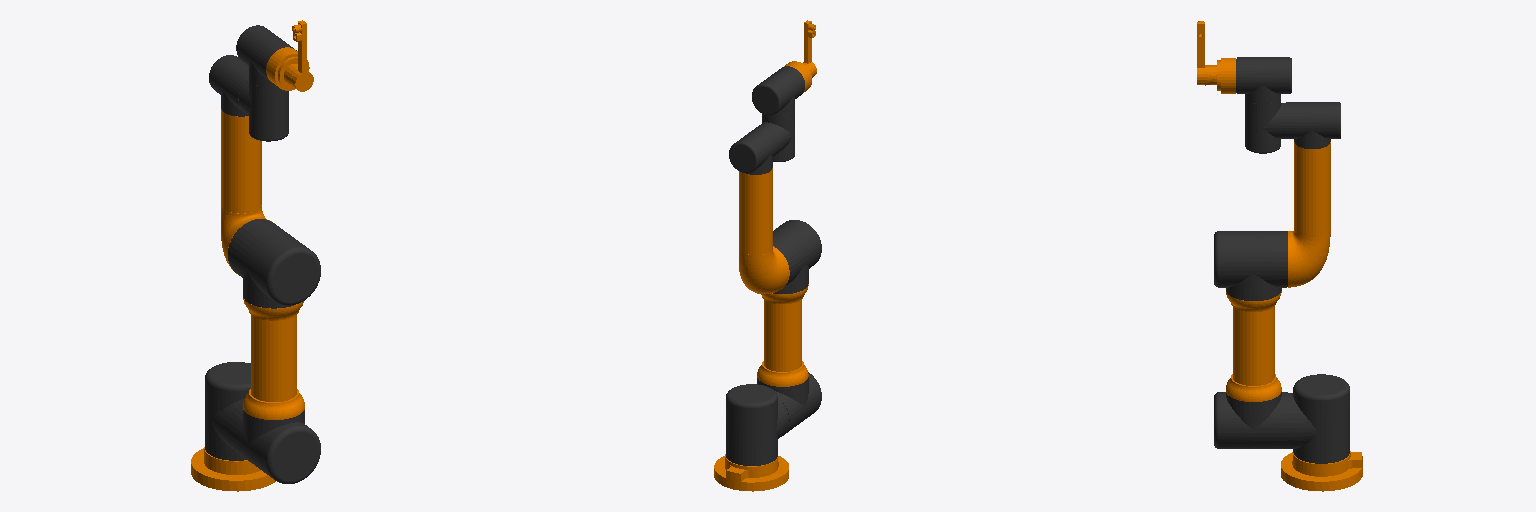
The robot description file, URDF, robot "aobo_i7":
 <robot name="aobo_i7">
    <link name="link_base">
        <visual>
		  <origin xyz="0. 0. 0." rpy="0. 0. 0." />
		  <geometry>
			<mesh filename="Geometry/i7-(1)-base.obj" scale="0.001 0.001 0.001" />
		  </geometry>
		  <material
			name="robot_orange">
			<color rgba="0.9137255 0.5137254 0. 1" />
		  </material>
		</visual>
		<collision>
          <origin xyz="0. 0. 0." rpy="0. 0. 0." />
          <geometry>
            <mesh filename="Geometry/i7-(1)-base_vhacd.obj" scale="0.001 0.001 0.001" />
          </geometry>
        </collision>
    </link>

	<link name="link_robot_joint1">
		<visual>
		  <origin xyz="0. 0. -.122" rpy="0. 0. 0" />
		  <geometry>
			<mesh filename="Geometry/i7-(2)-ID1.obj" scale="0.001 0.001 0.001" />
		  </geometry>
		  <material
			name="robot_black">
			<color rgba="0.2509804 0.2509804 0.2509804 1" />
		  </material>
		</visual>
		<collision>
          <origin xyz="0. 0. -.122" rpy="0. 0. 0" />
          <geometry>
            <mesh filename="Geometry/i7-(2)-ID1_vhacd.obj" scale="0.001 0.001 0.001" />
          </geometry>
        </collision>
    </link>

	<joint name="robot_j1" type="revolute">
        <axis xyz="0 0 1"/>
        <parent link="link_base"/>
        <child link="link_robot_joint1"/>
        <origin rpy="0. 0. 0" xyz="0. 0. 0.122"/>
        <limit lower="-3.04" upper="3.04" effort="0" velocity="0" />
    </joint>

	<link name="link_robot_joint2">
		<visual>
		  <origin xyz="0. 0.1215 -.122" rpy="0. 0. 0" />
		  <geometry>
			<mesh filename="Geometry/i7-(3)-ID2.obj" scale="0.001 0.001 0.001" />
		  </geometry>
		  <material
			name="robot_black">
			<color rgba="0.2509804 0.2509804 0.2509804 1" />
		  </material>
		</visual>
		<collision>
          <origin xyz="0. 0.1215 -.122" rpy="0. 0. 0" />
          <geometry>
            <mesh filename="Geometry/i7-(3)-ID2_vhacd.obj" scale="0.001 0.001 0.001" />
          </geometry>
        </collision>

		<visual>
		  <origin xyz="0. 0.1215 -0.122" rpy="0. 0. 0" />
		  <geometry>
			<mesh filename="Geometry/i7-(8)-dabiguan.obj" scale="0.001 0.001 0.001" />
		  </geometry>
		  <material
			name="robot_orange">
		  </material>
		</visual>
		<collision>
          <origin xyz="0. 0.1215 -0.122" rpy="0. 0. 0" />
          <geometry>
            <mesh filename="Geometry/i7-(8)-dabiguan_vhacd.obj" scale="0.001 0.001 0.001" />
          </geometry>
        </collision>

		<visual>
		  <origin xyz="0. 0.1215 -0.122" rpy="0. 0. 0" />
		  <geometry>
			<mesh filename="Geometry/i7-(4)-ID3.obj" scale="0.001 0.001 0.001" />
		  </geometry>
		  <material name="robot_black"/>
		</visual>
		<collision>
          <origin xyz="0. 0.1215 -0.122" rpy="0. 0. 0" />
          <geometry>
            <mesh filename="Geometry/i7-(4)-ID3_vhacd.obj" scale="0.001 0.001 0.001" />
          </geometry>
        </collision>
    </link>

	<joint name="robot_j2" type="revolute">
        <axis xyz="0 1 0"/>
        <parent link="link_robot_joint1"/>
        <child link="link_robot_joint2"/>
        <origin rpy="0. 0. 0." xyz="0. -0.1215 0."/>
        <limit lower="-3.04" upper="3.04" effort="0" velocity="0" />
    </joint>

	<link name="link_robot_joint3">
		<visual>
		  <origin xyz="0. 0.1215 -0.490" rpy="0. 0. 0" />
		  <geometry>
			<mesh filename="Geometry/i7-(10)-wantou.obj" scale="0.001 0.001 0.001" />
		  </geometry>
		  <material
			name="robot_orange">
		  </material>
		</visual>
		<collision>
          <origin xyz="0. 0.1215 -0.490" rpy="0. 0. 0" />
          <geometry>
            <mesh filename="Geometry/i7-(10)-wantou_vhacd.obj" scale="0.001 0.001 0.001" />
          </geometry>
        </collision>

		<visual>
		  <origin xyz="0. 0.1215 -0.490" rpy="0. 0. 0" />
		  <geometry>
			<mesh filename="Geometry/i7-(9)-xiaobiguan.obj" scale="0.001 0.001 0.001" />
		  </geometry>
		  <material
			name="robot_orange">
		  </material>
		</visual>
		<collision>
          <origin xyz="0. 0.1215 -0.490" rpy="0. 0. 0" />
          <geometry>
            <mesh filename="Geometry/i7-(9)-xiaobiguan_vhacd.obj" scale="0.001 0.001 0.001" />
          </geometry>
        </collision>

		<visual>
		  <origin xyz="0. 0.1215 -0.490" rpy="0. 0. 0" />
		  <geometry>
			<mesh filename="Geometry/i7-(5)-ID4.obj" scale="0.001 0.001 0.001" />
		  </geometry>
		  <material
			name="robot_black">
		  </material>
		</visual>
		<collision>
          <origin xyz="0. 0.1215 -0.490" rpy="0. 0. 0" />
          <geometry>
            <mesh filename="Geometry/i7-(5)-ID4_vhacd.obj" scale="0.001 0.001 0.001" />
          </geometry>
        </collision>
    </link>

	<joint name="robot_j3" type="revolute">
        <axis xyz="0 1 0"/>
        <parent link="link_robot_joint2"/>
        <child link="link_robot_joint3"/>
        <origin rpy="0. 0. 0." xyz="0. 0. 0.368"/>
        <limit lower="-3.04" upper="3.04" effort="0" velocity="0" />
    </joint>


	<link name="link_robot_joint4">
		<visual>
		  <origin xyz="0. 0.1215 -0.806" rpy="0. 0. 0" />
		  <geometry>
			<mesh filename="Geometry/i7-(6)-ID5.obj" scale="0.001 0.001 0.001" />
		  </geometry>
		  <material
			name="robot_black">
		  </material>
		</visual>
		<collision>
          <origin xyz="0. 0.1215 -0.806" rpy="0. 0. 0" />
          <geometry>
            <mesh filename="Geometry/i7-(6)-ID5_vhacd.obj" scale="0.001 0.001 0.001" />
          </geometry>
        </collision>
    </link>

	<joint name="robot_j4" type="revolute">
        <axis xyz="0 1 0"/>
        <parent link="link_robot_joint3"/>
        <child link="link_robot_joint4"/>
        <origin rpy="0 0 0" xyz="0. 0. 0.316"/>
        <limit lower="-3.04" upper="3.04" effort="0" velocity="0" />
    </joint>

	<link name="link_robot_joint5">
		<visual>
		  <origin xyz="0. 0.1215 -0.9085" rpy="0. 0. 0" />
		  <geometry>
			<mesh filename="Geometry/i7-(7)-ID6.obj" scale="0.001 0.001 0.001" />
		  </geometry>
		  <material
			name="robot_black">
		  </material>
		</visual>
		<collision>
          <origin xyz="0. 0.1215 -0.9085" rpy="0. 0. 0" />
          <geometry>
            <mesh filename="Geometry/i7-(7)-ID6_vhacd.obj" scale="0.001 0.001 0.001" />
          </geometry>
        </collision>
    </link>

	<joint name="robot_j5" type="revolute">
        <axis xyz="0 0 1"/>
        <parent link="link_robot_joint4"/>
        <child link="link_robot_joint5"/>
        <origin rpy="0 0 0" xyz="0. 0. 0.1025"/>
        <limit lower="-3.04" upper="3.04" effort="0" velocity="0" />
    </joint>

	<link name="link_robot_joint6">
		<visual>
		  <origin xyz="0. 0.2155 -0.9085" rpy="0. 0. 0" />
		  <geometry>
			<mesh filename="Geometry/i7-(11)-endeffect.obj" scale="0.001 0.001 0.001" />
		  </geometry>
		  <material
			name="robot_orange">
		  </material>
		</visual>
		<collision>
          <origin xyz="0. 0.2155 -0.9085" rpy="0. 0. 0" />
          <geometry>
            <mesh filename="Geometry/i7-(11)-endeffect_vhacd.obj" scale="0.001 0.001 0.001" />
          </geometry>
        </collision>
    </link>

	<joint name="robot_j6" type="revolute">
        <axis xyz="0 1 0"/>
        <parent link="link_robot_joint5"/>
        <child link="link_robot_joint6"/>
        <origin rpy="0 0 0" xyz="0. -0.094 0."/>
        <limit lower="-3.04" upper="3.04" effort="0" velocity="0" />
    </joint>

	 <link name="link_robot_end">
		<visual>
		  <origin xyz="0 0 0" rpy="1.57 0 -1.57" />
		  <geometry>
			<mesh filename="Geometry/endeffect_tool.obj" scale="0.001 0.001 0.001" />
		  </geometry>
		  <material
			name="robot_orange">
		  </material>
		</visual>
		<collision>
          <origin xyz="0 0 0" rpy="1.57 0 -1.57" />
          <geometry>
            <mesh filename="Geometry/endeffect_tool.obj" scale="0.001 0.001 0.001" />
          </geometry>
        </collision>
    </link>

	<joint name="robot_end" type="fixed">
		<axis xyz="0 1 0"/>
        <parent link="link_robot_joint6"/>
        <child link="link_robot_end"/>
        <origin rpy="0 0 0" xyz="-0.02 -0.034 0.109"/>
    </joint>

</robot>

--- What the picture shows (computed from the rendered views, not written in the file) ---
3 views of the same robot in one strip: view 1: azimuth 30°, elevation 25°; view 2: azimuth 150°, elevation 25°; view 3: azimuth 270°, elevation 25° (orthographic).
Model aobo_i7 with 8 links and 7 joints (6 revolute, 1 fixed), rooted at link_base, posed all joints at 0.
Visible links, largest first — view 1: link_robot_joint2, link_robot_joint3, link_robot_joint1, link_robot_joint4, link_base, link_robot_joint5, link_robot_end, link_robot_joint6; view 2: link_robot_joint2, link_robot_joint3, link_robot_joint1, link_base, link_robot_joint5, link_robot_joint4; view 3: link_robot_joint2, link_robot_joint3, link_robot_joint1, link_robot_joint5, link_base, link_robot_joint4, link_robot_end, link_robot_joint6.
Link boxes in pixels (<box>): link_robot_joint2: <box>228,219,320,483</box>; link_robot_joint3: <box>209,55,274,273</box>; link_robot_joint1: <box>205,362,250,460</box>; link_robot_joint4: <box>239,81,288,141</box>; link_base: <box>191,447,275,491</box>; link_robot_joint5: <box>236,25,296,86</box>; link_robot_end: <box>284,20,313,91</box>; link_robot_joint6: <box>266,47,309,90</box>; link_robot_joint2: <box>757,220,821,435</box>; link_robot_joint3: <box>729,124,789,293</box>; link_robot_joint1: <box>726,384,788,465</box>; link_base: <box>714,454,788,491</box>; link_robot_joint5: <box>752,66,804,116</box>; link_robot_joint4: <box>761,112,794,161</box>; link_robot_joint2: <box>1214,231,1287,448</box>; link_robot_joint3: <box>1286,102,1340,287</box>; link_robot_joint1: <box>1288,374,1349,463</box>; link_robot_joint5: <box>1236,57,1291,103</box>; link_base: <box>1281,451,1362,491</box>; link_robot_joint4: <box>1245,98,1285,153</box>; link_robot_end: <box>1197,21,1216,85</box>; link_robot_joint6: <box>1217,58,1235,93</box>.
Size in the robot's own frame: 0.1703 by 0.3426 by 1.03 metres.
12 mesh visuals loaded from 12 distinct referenced files (12 OBJ).
